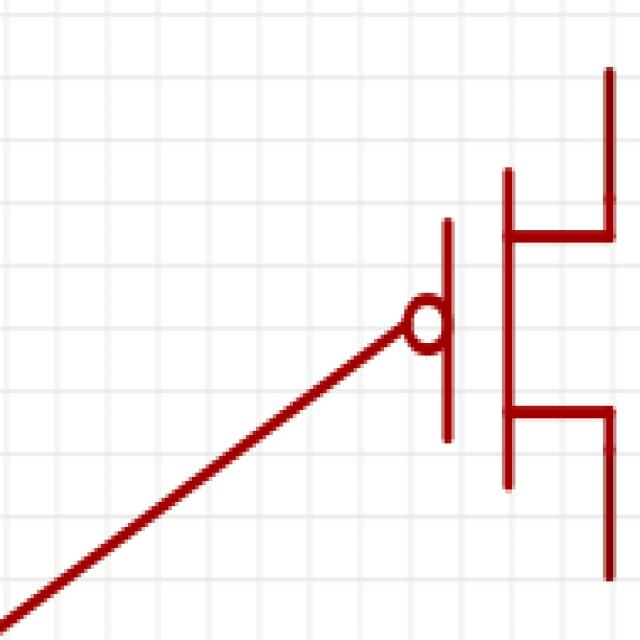pmos: (45, 31, 638, 627)
